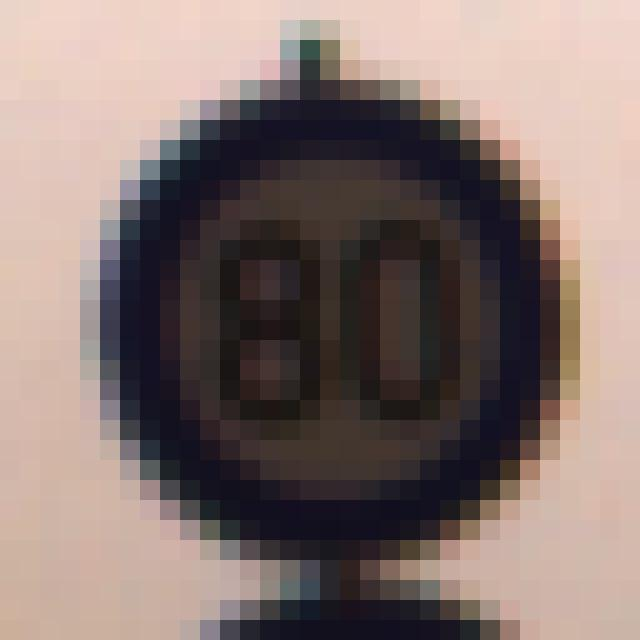SPEED-LIMIT-80: (101, 89, 564, 566)
